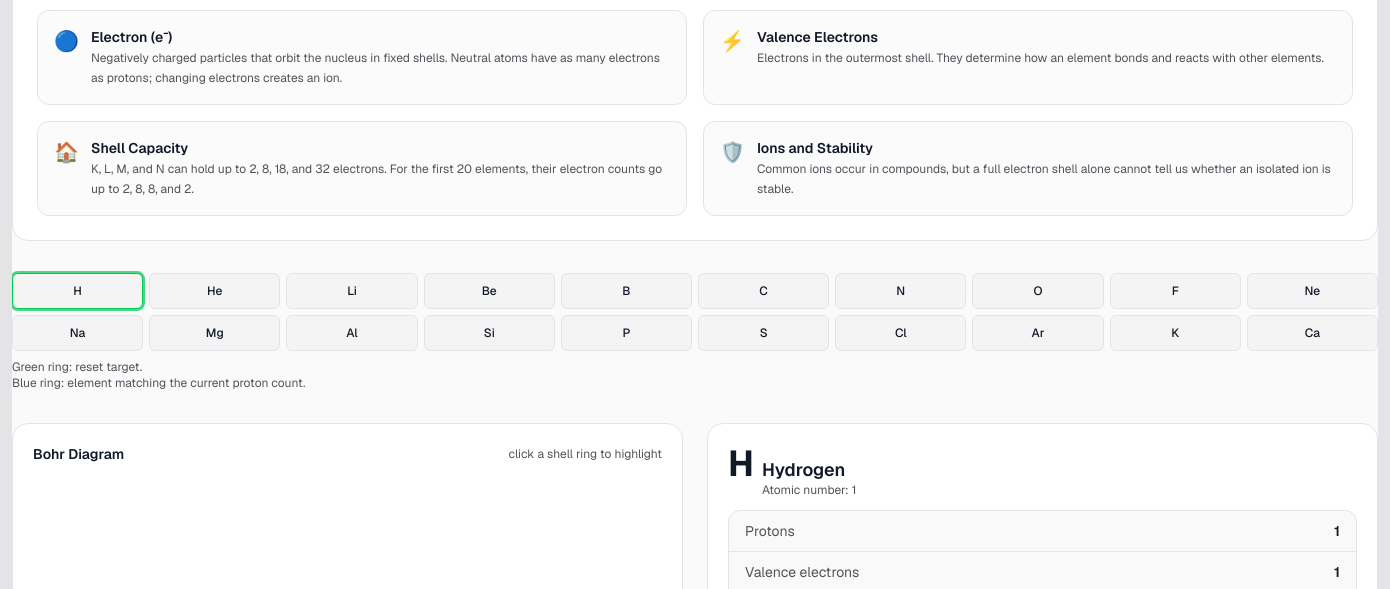
Scenario: Bohr atom builder › reset to neutral restores the selected element without reloading
The width and height of the screenshot is (1390, 589).
Click the button with aria-label "Sodium, Na". click: [78, 333]
box: [12,315,143,351]
(page scrolled)
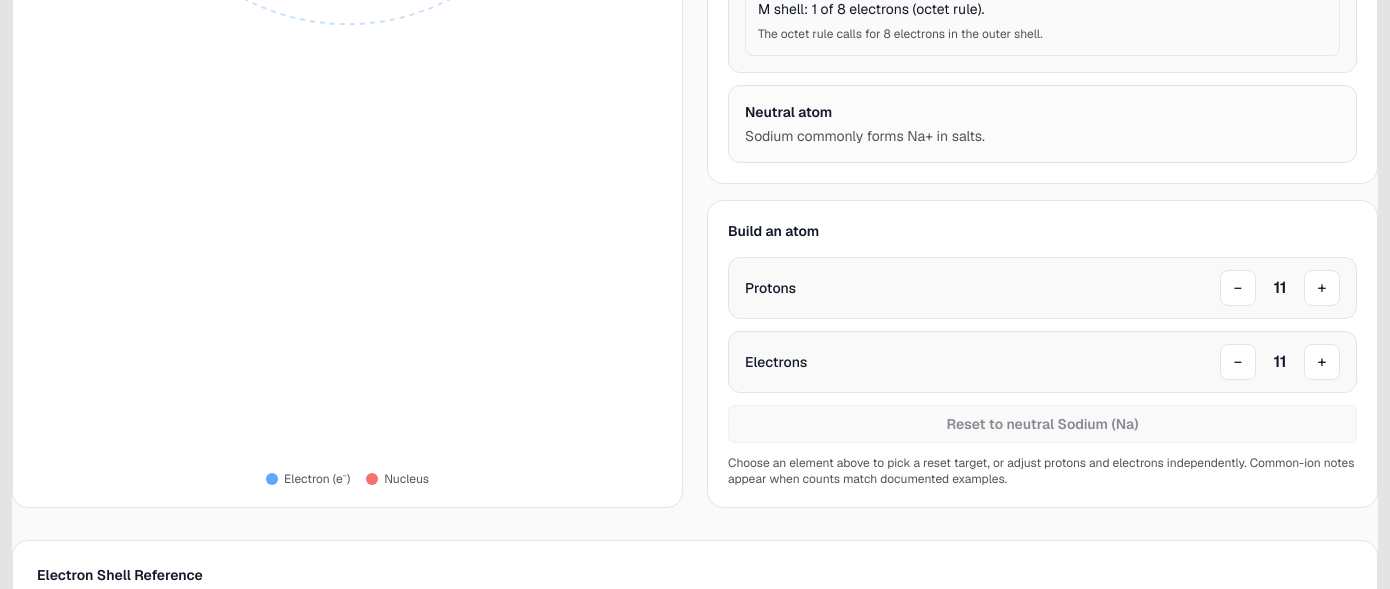
Click the button named "Remove an electron". click: [1238, 362]
box: [1220,344,1256,380]
(page scrolled)
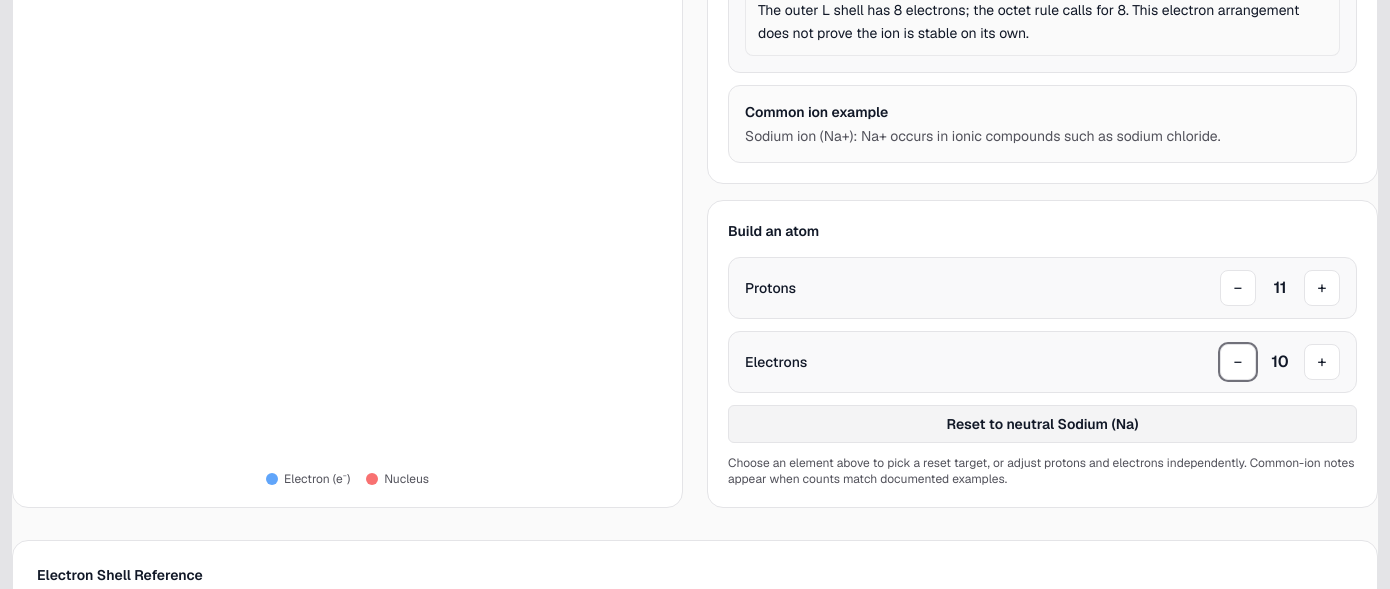
Click the button named "Remove an electron". click: [1238, 362]
box: [1220,344,1256,380]
(page scrolled)
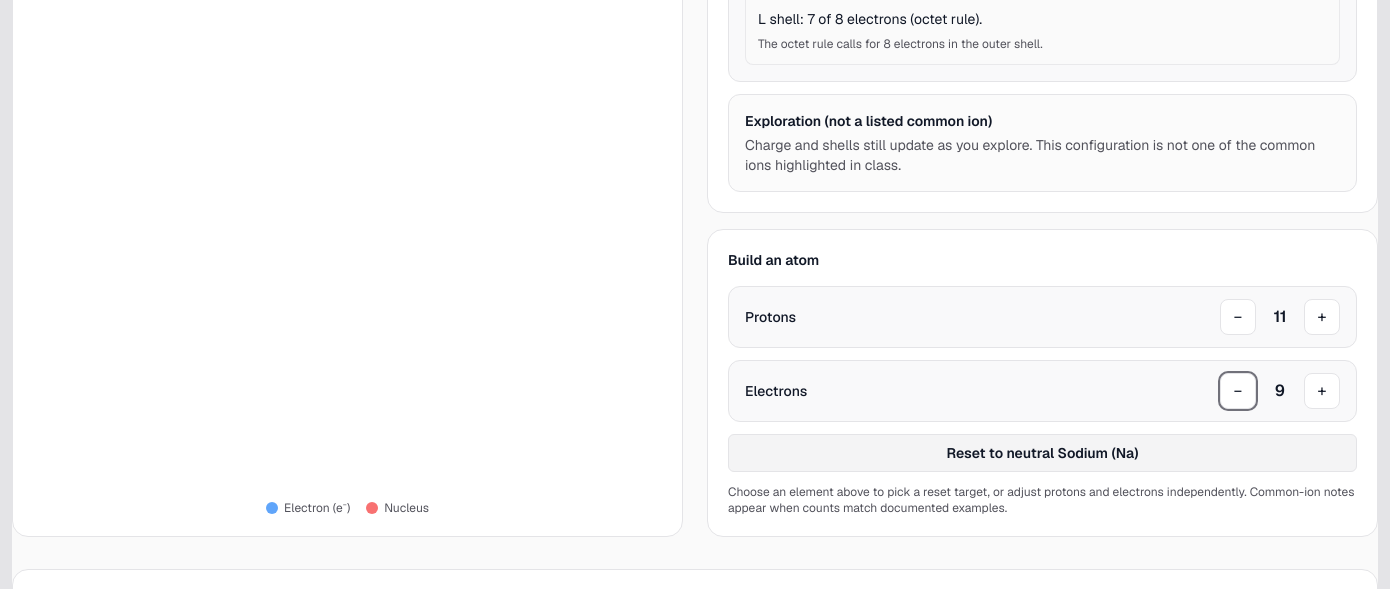
Expected: the text named "Protons: 11" is shown, [1274,306,1286,327]
Expected: the text named "Electrons: 9" is shown, [1275,380,1285,401]
Click the button "Reset to neutral Sodium (Na)". click: [1042, 453]
box: [728,434,1357,472]
(page scrolled)
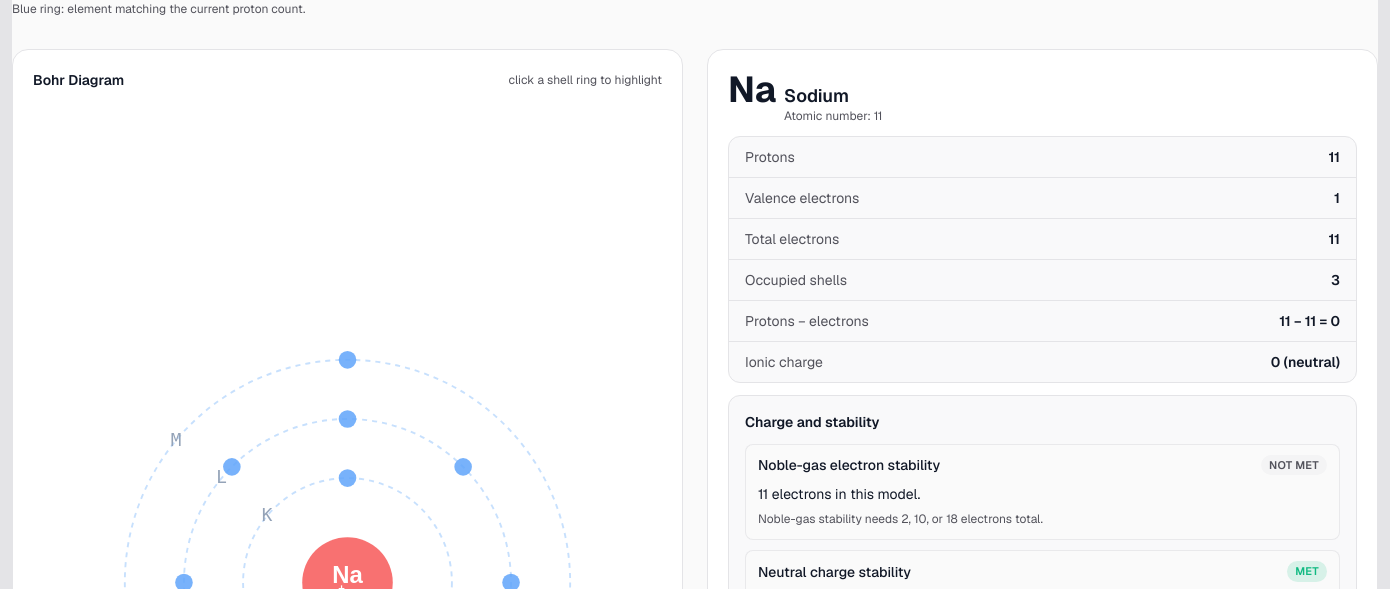
Expected: the text named "Ionic charge: 0 (neutral)" is shown, [1271,352,1340,372]
